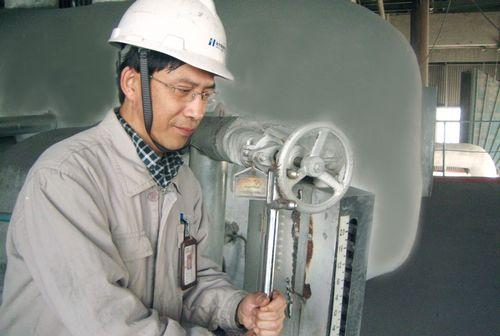hard-hat: (107, 1, 235, 81)
person: (1, 0, 288, 336)
ppe-suit: (1, 107, 250, 334)
